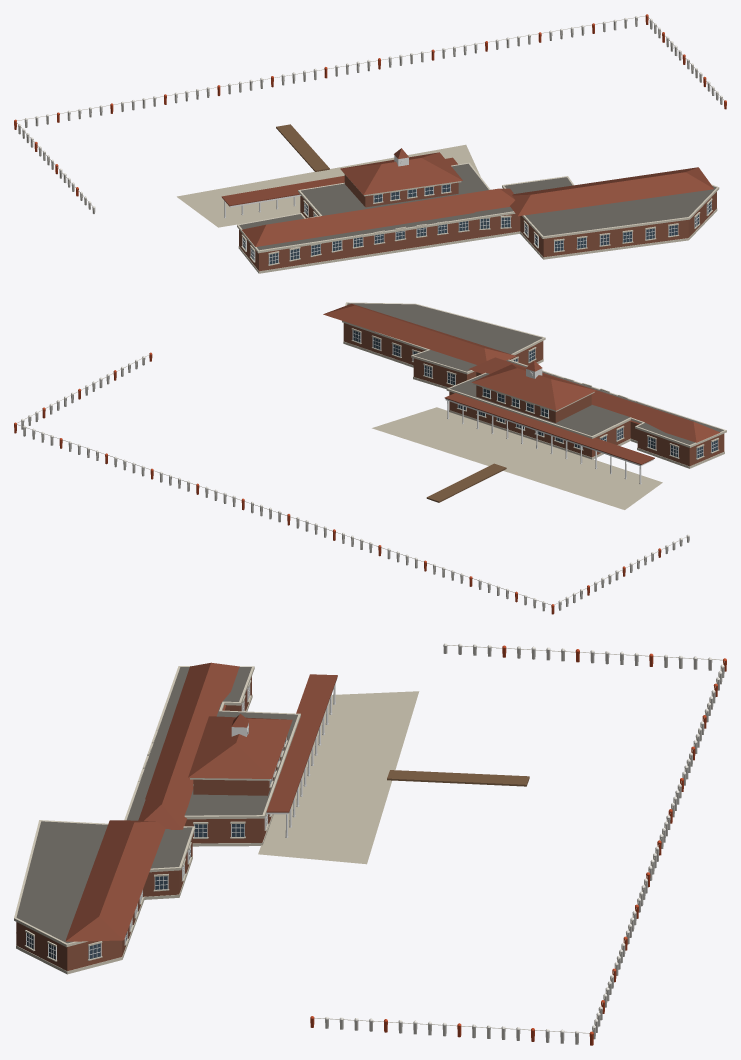
The model's file is serpentine_lido.glb.
The picture shows the model from 3 angles, top to bottom: view 1: azimuth 30°, elevation 25°; view 2: azimuth 150°, elevation 25°; view 3: azimuth 270°, elevation 25°; orthographic projection. The views are drawn at different scales.
Size of the model in its own units: 98.81 by 12.27 by 75.68.
